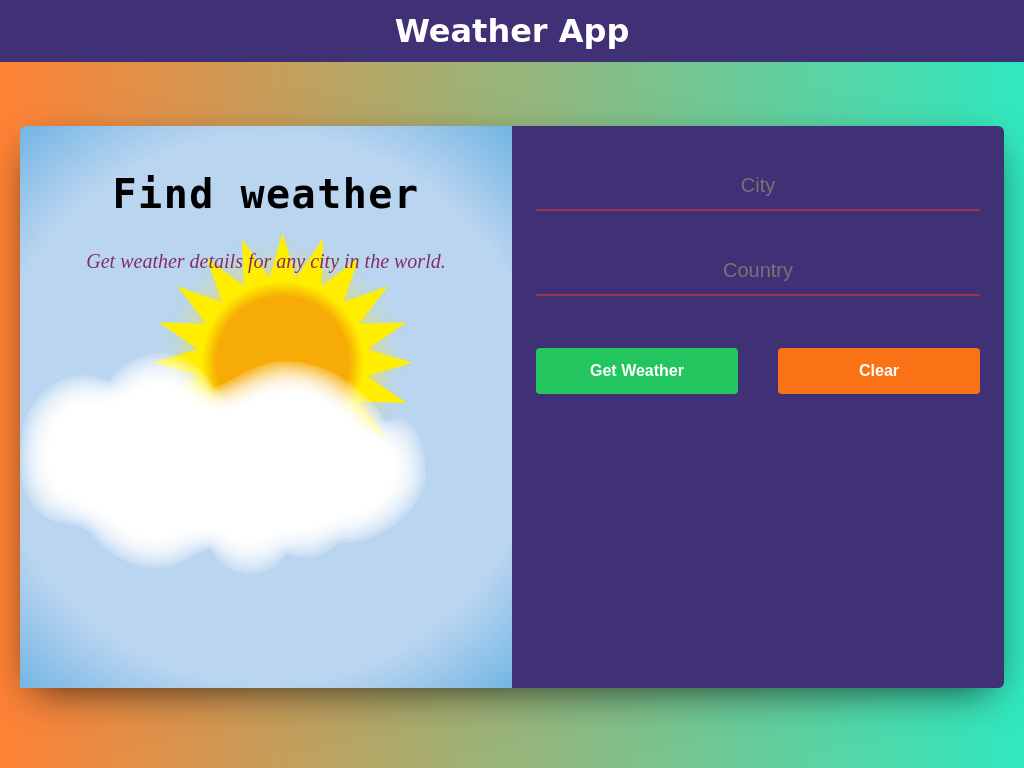
App integration tests › clears error message when user starts typing
This screenshot has width=1024, height=768.
Type "InvalidCity" into the field labelled "City".
click(758, 186); type("InvalidCity")  # box [536,162,980,211]
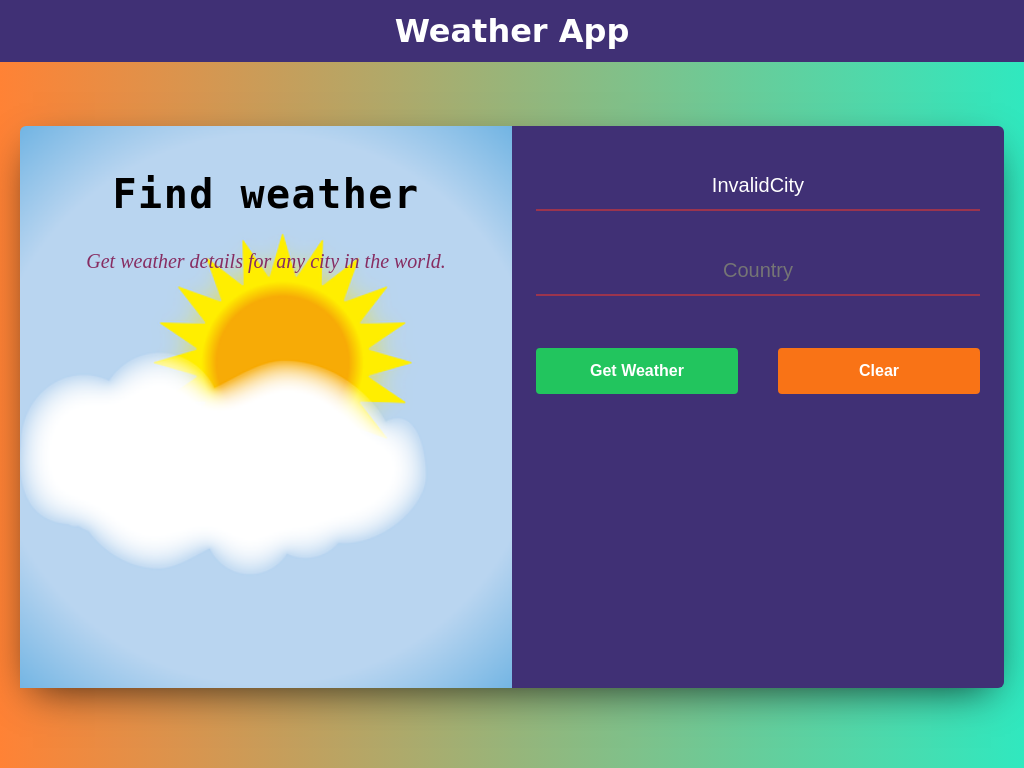
Type "InvalidCountry" into the field labelled "Country".
click(758, 272); type("InvalidCountry")  # box [536,247,980,296]
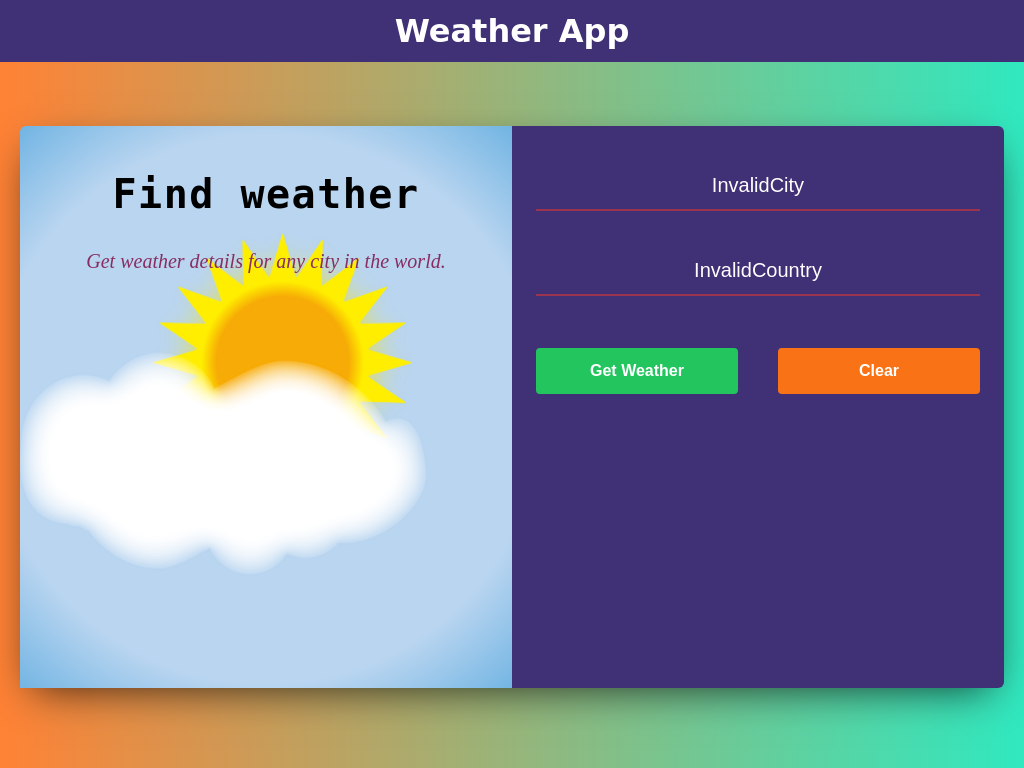
Click the button "Get Weather".
click(637, 371)  # box [536,348,738,394]
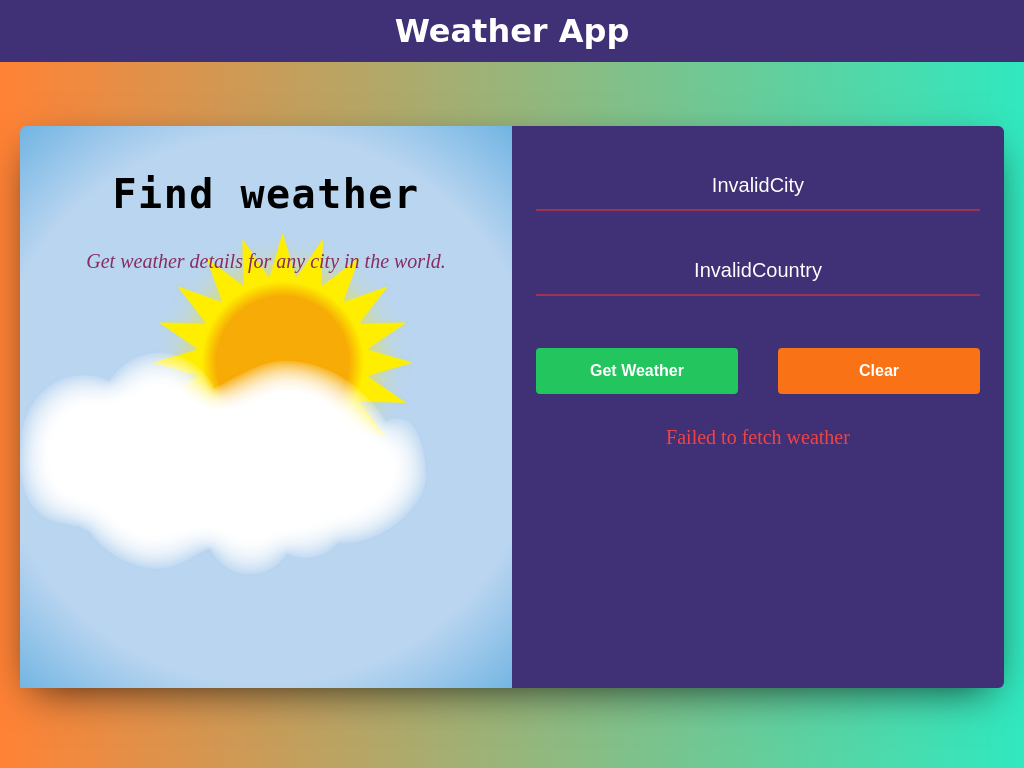
expect the text "Failed to fetch weather" is shown: met, box [666,426,850,448]
Type "L" into the field named "City".
click(758, 186); type("L")  # box [536,162,980,211]
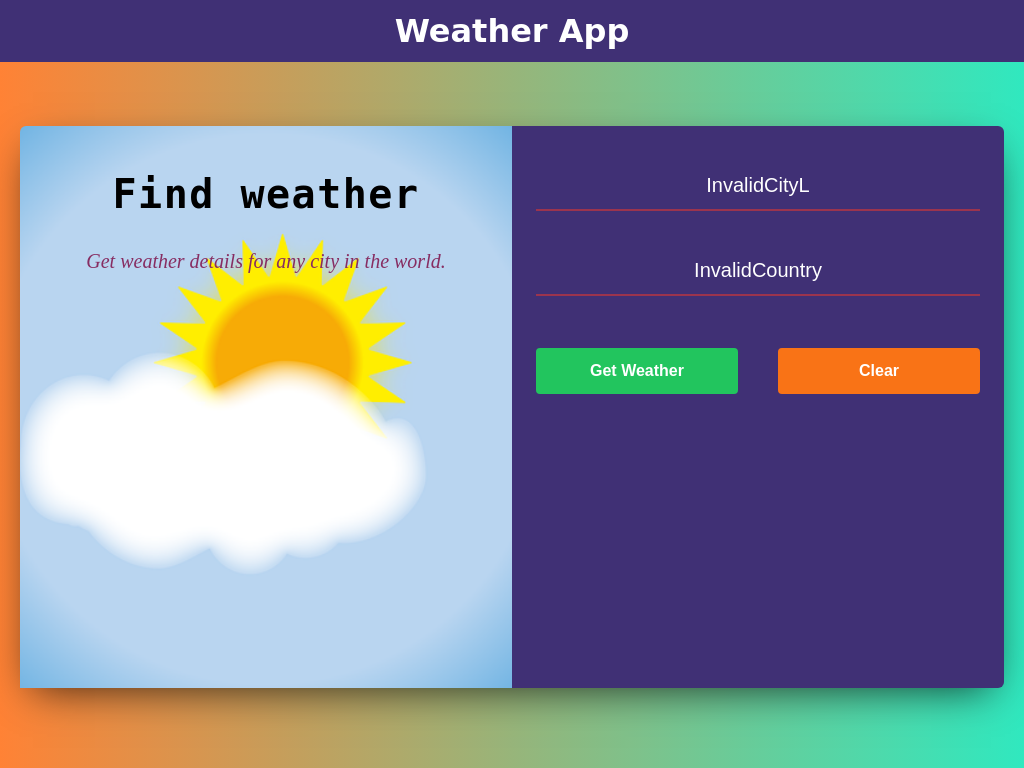
expect the text "Failed to fetch weather" is gone: met
